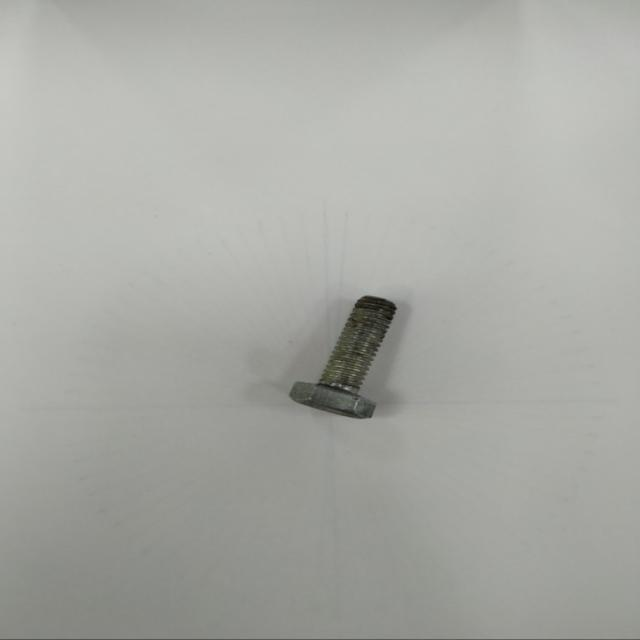Bolt: (289, 297, 397, 420)
